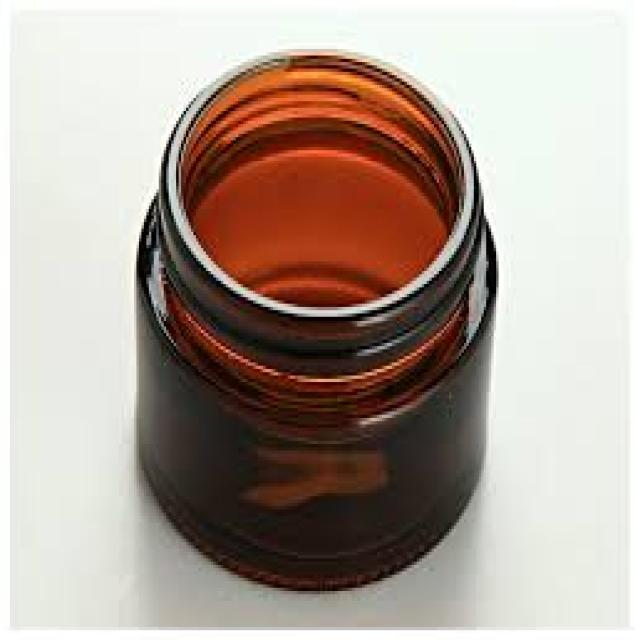glass: (134, 49, 496, 591)
